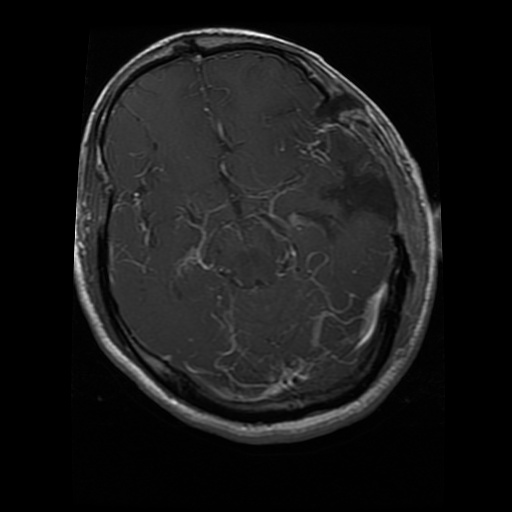glioma: (319, 160, 396, 220)
